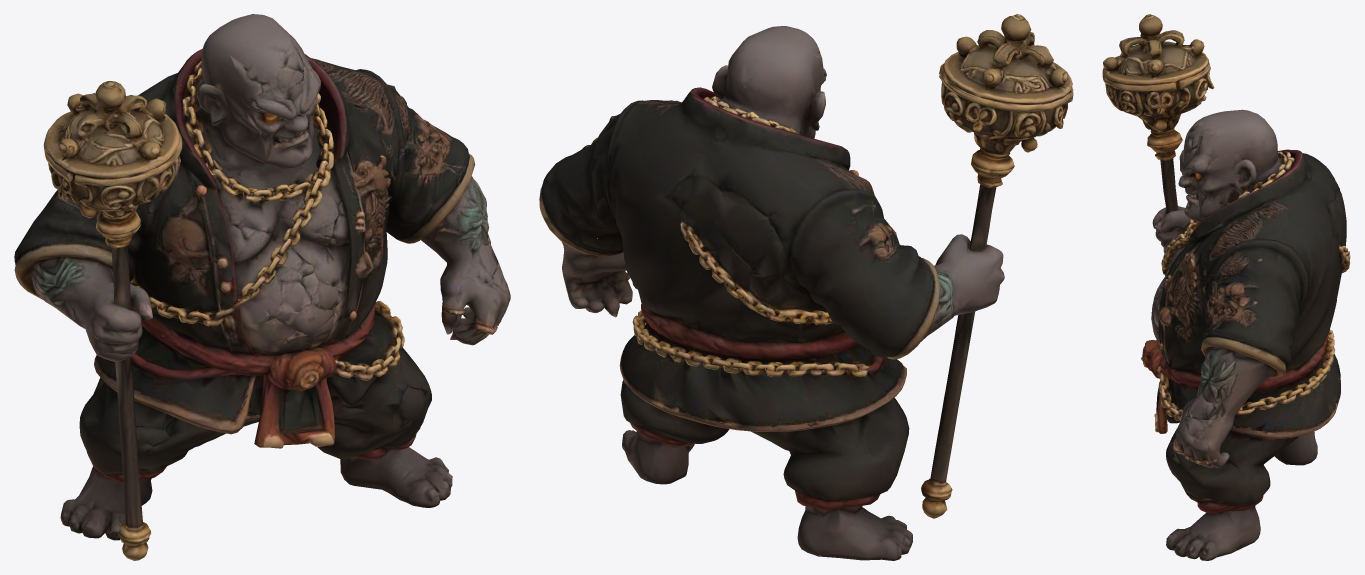
Rendered from mob_tangzhu.glb.
3 renders of one model, left to right at view 1: azimuth 30°, elevation 25°; view 2: azimuth 150°, elevation 25°; view 3: azimuth 270°, elevation 25°, orthographic. The views are drawn at different scales.
Visible parts, largest first — view 1: tripo_node_f9cca9ff-176c-46ff-8d5b-e3c883a5fe41; view 2: tripo_node_f9cca9ff-176c-46ff-8d5b-e3c883a5fe41; view 3: tripo_node_f9cca9ff-176c-46ff-8d5b-e3c883a5fe41.
Part boxes in pixels (x1,y1,x2,y2): tripo_node_f9cca9ff-176c-46ff-8d5b-e3c883a5fe41: (14,14,510,560); tripo_node_f9cca9ff-176c-46ff-8d5b-e3c883a5fe41: (539,14,1073,560); tripo_node_f9cca9ff-176c-46ff-8d5b-e3c883a5fe41: (1102,14,1350,560).
Size of the model in its own units: 0.9686 by 0.9803 by 0.543.
Materials: 1 (1 with a texture image).
